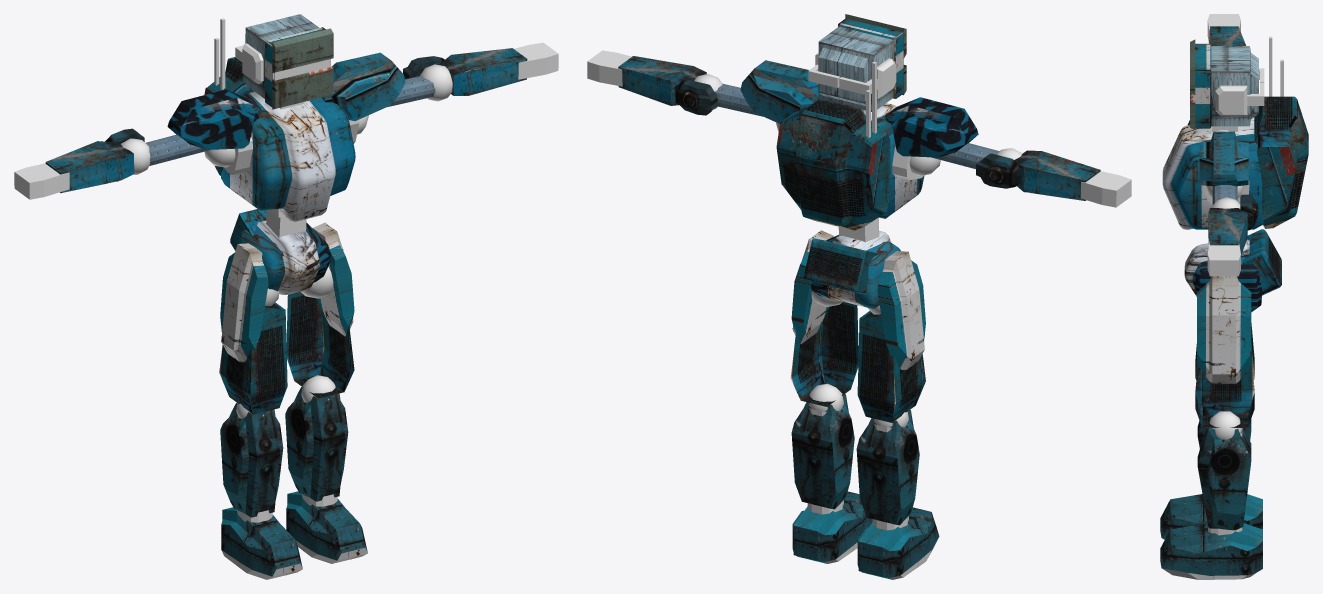
File: Robot 3 Rig.fbx
3 views of the same model, side by side, from view 1: azimuth 30°, elevation 25°; view 2: azimuth 150°, elevation 25°; view 3: azimuth 270°, elevation 25° (orthographic). The views are drawn at different scales.
Visible parts, largest first — view 1: Cube.019, Icosphere, Icosphere.001, Cube.005, Icosphere.002, Icosphere.003, Icosphere.004, Cube.020, Icosphere.005, Icosphere.007, Cube.023, Cube.012 (+3 smaller); view 2: Cube.019, Icosphere, Cube.005, Icosphere.001, Icosphere.002, Icosphere.003, Icosphere.004, Cube.020, Icosphere.006, Icosphere.005, Icosphere.007, Cube.023 (+3 smaller); view 3: Cube.019, Icosphere.001, Cube.005, Icosphere.002, Cube.012, Cube.020, Icosphere.005, Icosphere.007, Cube.023, Cube.031, Icosphere.006, Cube.017 (+2 smaller).
Boxes of the visible parts, bbox=[...] form: Cube.019: bbox=[204, 18, 359, 221]; Icosphere: bbox=[219, 243, 287, 414]; Icosphere.001: bbox=[286, 222, 354, 398]; Cube.005: bbox=[235, 14, 333, 109]; Icosphere.002: bbox=[285, 375, 348, 506]; Icosphere.003: bbox=[220, 403, 283, 522]; Icosphere.004: bbox=[146, 89, 260, 167]; Cube.020: bbox=[230, 209, 330, 294]; Icosphere.005: bbox=[321, 52, 435, 134]; Icosphere.007: bbox=[403, 48, 527, 101]; Cube.023: bbox=[221, 507, 302, 579]; Cube.012: bbox=[286, 491, 367, 563]; Cube.019: bbox=[776, 61, 924, 230]; Icosphere: bbox=[857, 251, 925, 422]; Cube.005: bbox=[808, 14, 906, 111]; Icosphere.001: bbox=[790, 230, 858, 406]; Icosphere.002: bbox=[791, 383, 854, 514]; Icosphere.003: bbox=[856, 410, 919, 530]; Icosphere.004: bbox=[885, 97, 999, 175]; Cube.020: bbox=[803, 231, 900, 309]; Icosphere.006: bbox=[976, 148, 1100, 200]; Icosphere.005: bbox=[715, 60, 818, 131]; Icosphere.007: bbox=[618, 56, 722, 115]; Cube.023: bbox=[857, 507, 939, 579]; Cube.019: bbox=[1162, 36, 1308, 229]; Icosphere.001: bbox=[1195, 276, 1254, 427]; Cube.005: bbox=[1190, 39, 1264, 129]; Icosphere.002: bbox=[1197, 411, 1251, 535]; Cube.012: bbox=[1160, 523, 1262, 579]; Cube.020: bbox=[1184, 229, 1281, 312]; Icosphere.005: bbox=[1199, 131, 1248, 204]; Icosphere.007: bbox=[1208, 194, 1258, 255]; Cube.023: bbox=[1160, 494, 1262, 539]; Cube.031: bbox=[1207, 241, 1240, 276]; Icosphere.006: bbox=[1209, 26, 1245, 45]; Cube.017: bbox=[1207, 14, 1240, 42].
Size of the model in its own units: 1385 by 353 by 1316.
